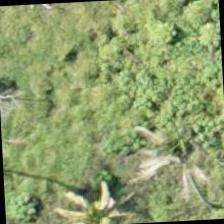Kelapa_Sawit: (129, 107, 223, 203), (47, 172, 140, 223)
